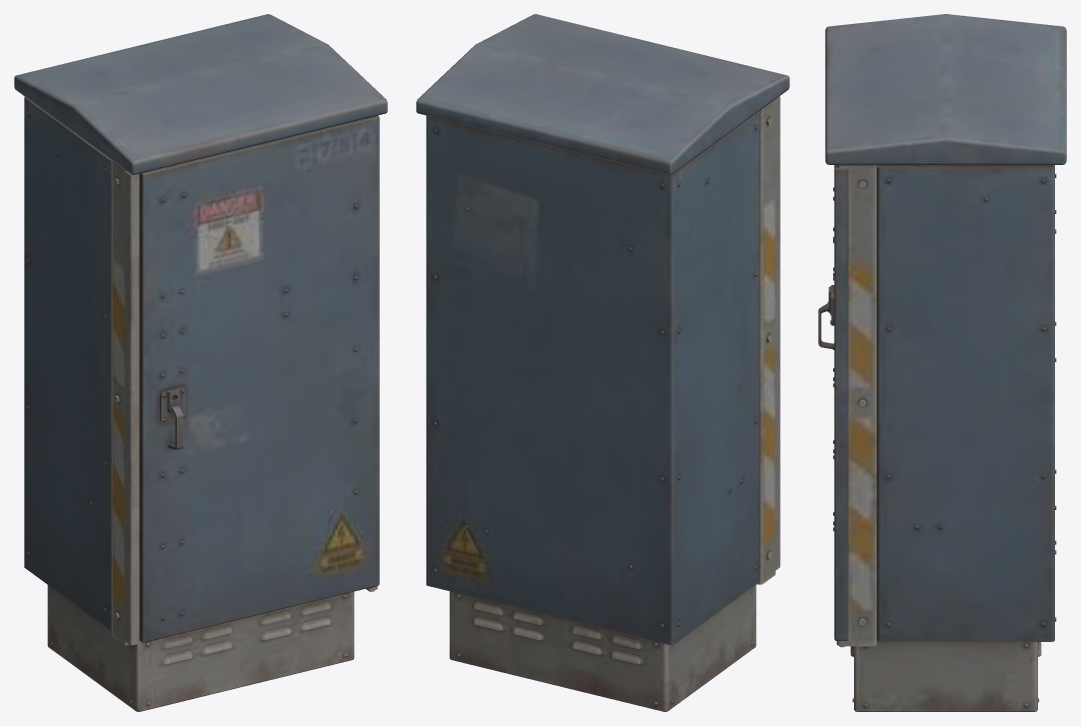
The model's file is utility_box.glb.
3 views of the same model, side by side, from view 1: azimuth 30°, elevation 25°; view 2: azimuth 150°, elevation 25°; view 3: azimuth 270°, elevation 25° (orthographic).
Visible parts, largest first — view 1: utility_box_01_box; view 2: utility_box_01_box; view 3: utility_box_01_box.
Boxes of the visible parts, box(x1,y1,x2,y2) form: utility_box_01_box: box(14, 14, 387, 711); utility_box_01_box: box(416, 14, 789, 711); utility_box_01_box: box(818, 14, 1066, 711).
Size of the model in its own units: 0.52 by 1.12 by 0.432.
1 material, 1 textured.
